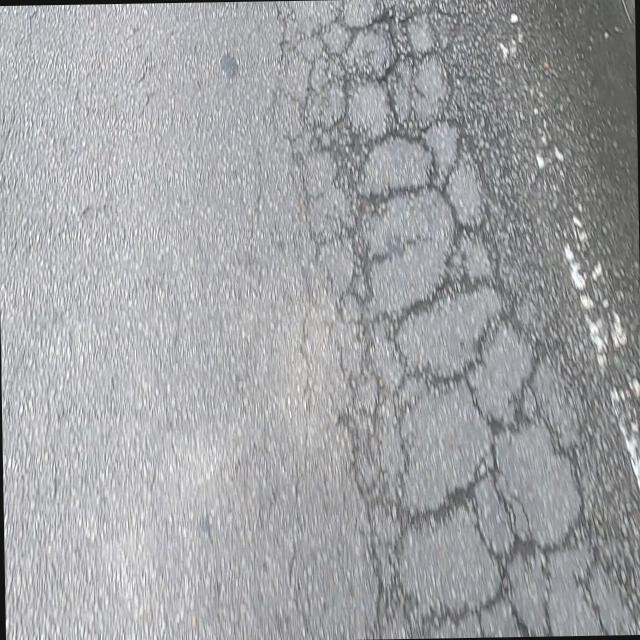Retak-Buaya: (275, 0, 640, 639)
